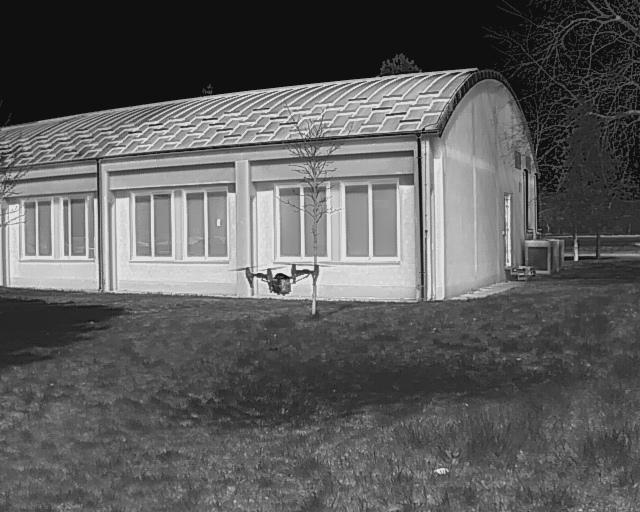drone: (227, 246, 334, 308)
